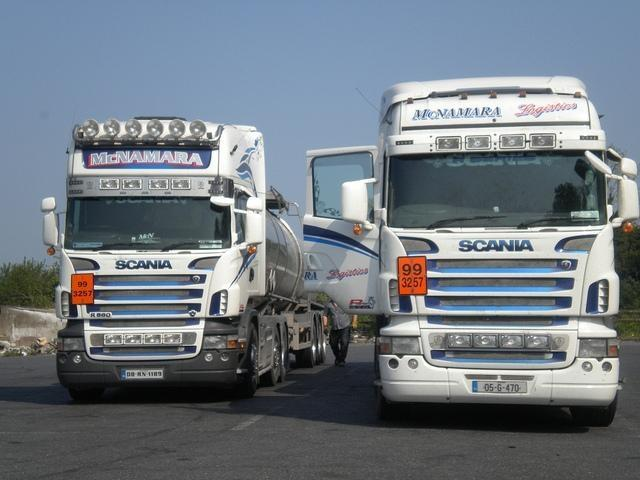truck: (296, 70, 640, 436), (31, 120, 347, 405)
